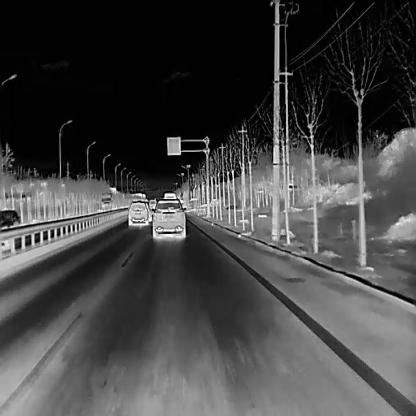car: (150, 196, 185, 238), (0, 209, 25, 249), (126, 198, 148, 225), (148, 197, 156, 209)
truck: (100, 191, 112, 212)
